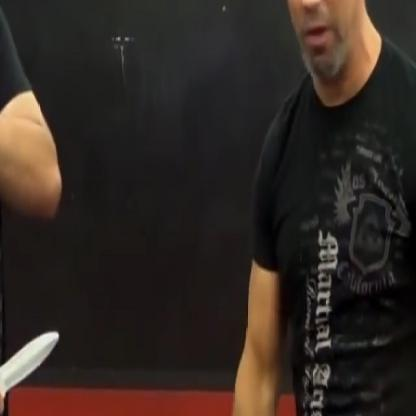knife: (0, 320, 65, 416)
